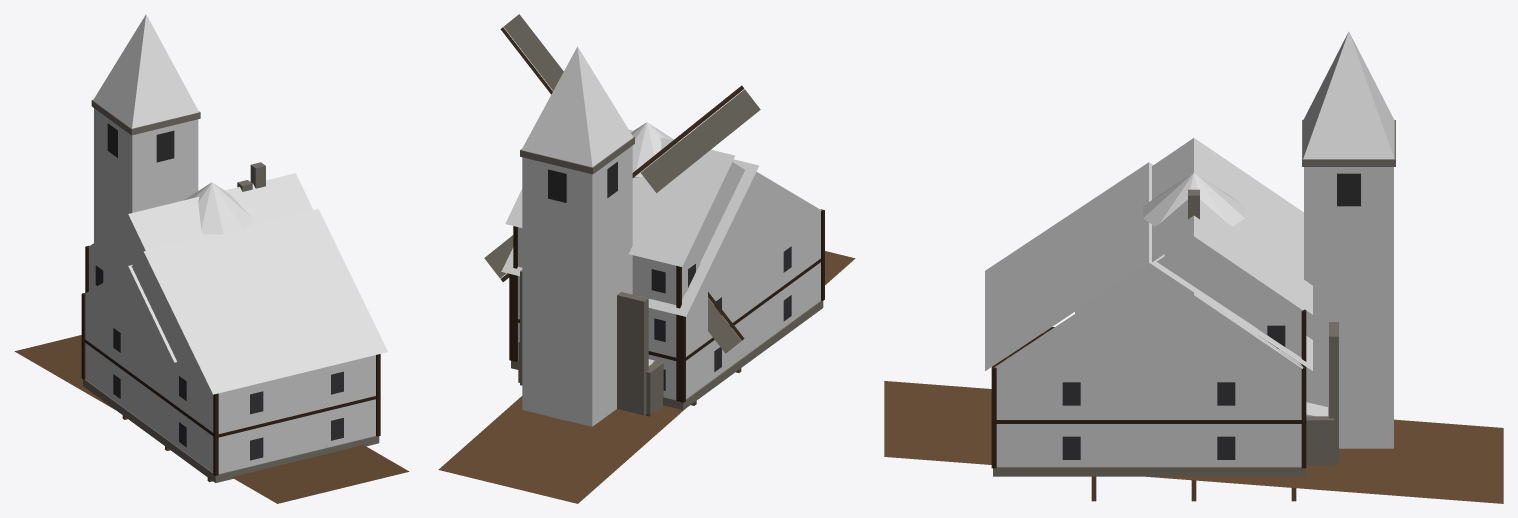
File: wooded.glb
The picture shows the model from 3 angles, left to right: view 1: azimuth 30°, elevation 25°; view 2: azimuth 150°, elevation 25°; view 3: azimuth 270°, elevation 25°; orthographic projection. The views are drawn at different scales.
Visible parts, largest first — view 1: church, merchants-house, shipyard-slip, windmill; view 2: church, merchants-house, shipyard-slip, windmill, chapel-ruin; view 3: church, shipyard-slip, merchants-house, chapel-ruin, windmill, warehouse.
Part boxes in pixels (x1,y1,x2,y2): church: (81,14,387,482); merchants-house: (85,162,313,292); shipyard-slip: (14,335,409,503); windmill: (184,182,253,234); church: (501,46,824,426); merchants-house: (505,129,744,401); shipyard-slip: (438,251,855,503); windmill: (484,14,760,353); chapel-ruin: (518,270,663,415); church: (985,31,1395,476); shipyard-slip: (884,330,1503,503); merchants-house: (1075,138,1327,416); chapel-ruin: (1306,322,1338,465); windmill: (1143,173,1244,226); warehouse: (1085,292,1302,368).
Size of the model in its own units: 17.82 by 24.5 by 31.
